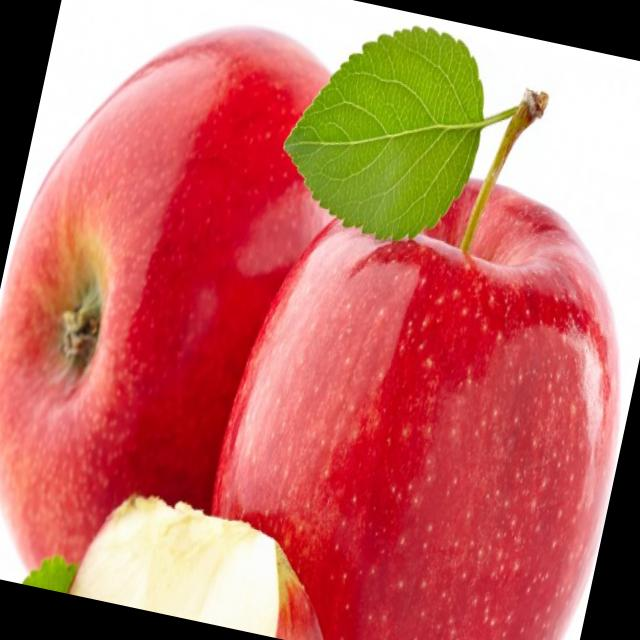apple: (0, 0, 442, 640), (184, 140, 640, 640)
